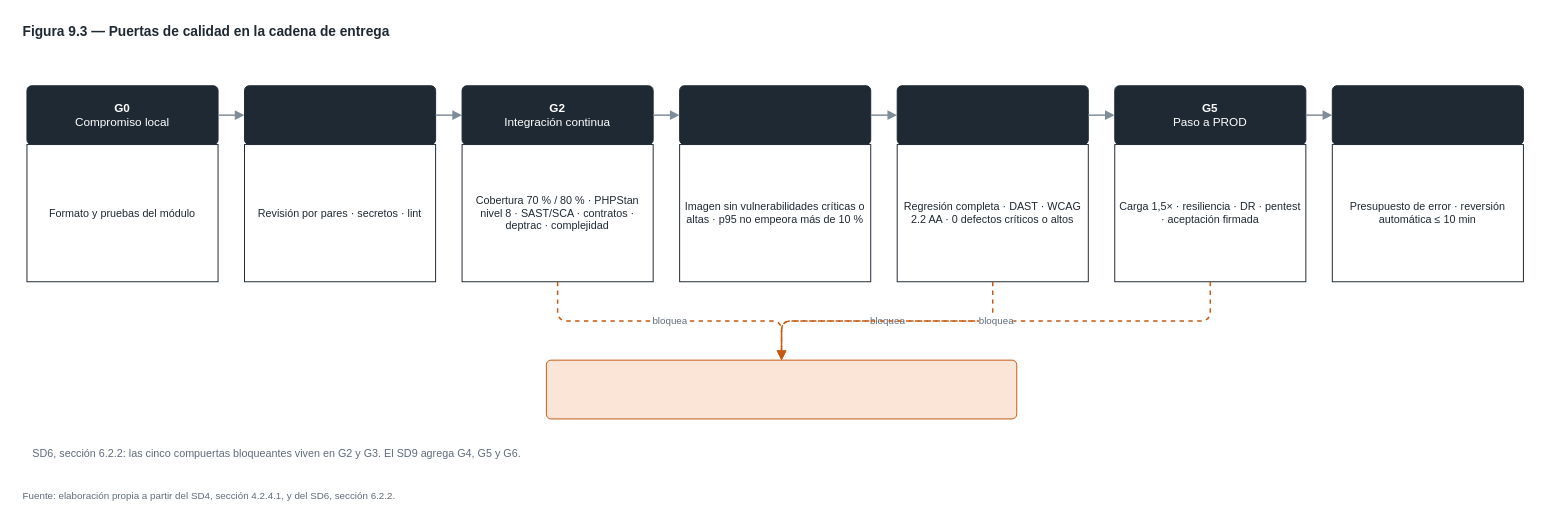
The diagram is 1562 pixels wide and 523 high, and some of its shapes have lost their labels. The shapes that lost their labels are listed below. From the top down, each one's centre as x and y in pixels, then its label:
At (x=340, y=115): "G1 Solicitud de fusión".
At (x=775, y=115): "G3 Promoción a QA".
At (x=992, y=115): "G4 Promoción a PREPROD".
At (x=1427, y=115): "G6 Operación".
At (x=781, y=389): "Cambio rechazado : vuelve al autor con el criterio incumplido".
